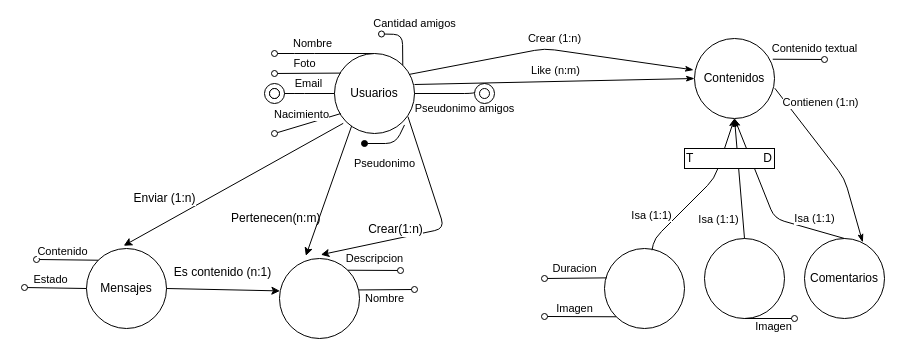
This 902x357 diagram has some shape labels left out. Here are the shapes that lost their labels. From the top down, the centre of each, then its label:
At [319,298]: "Grupos de chat".
At [644,288]: "Historias".
At [744,278]: "Anuncios".
